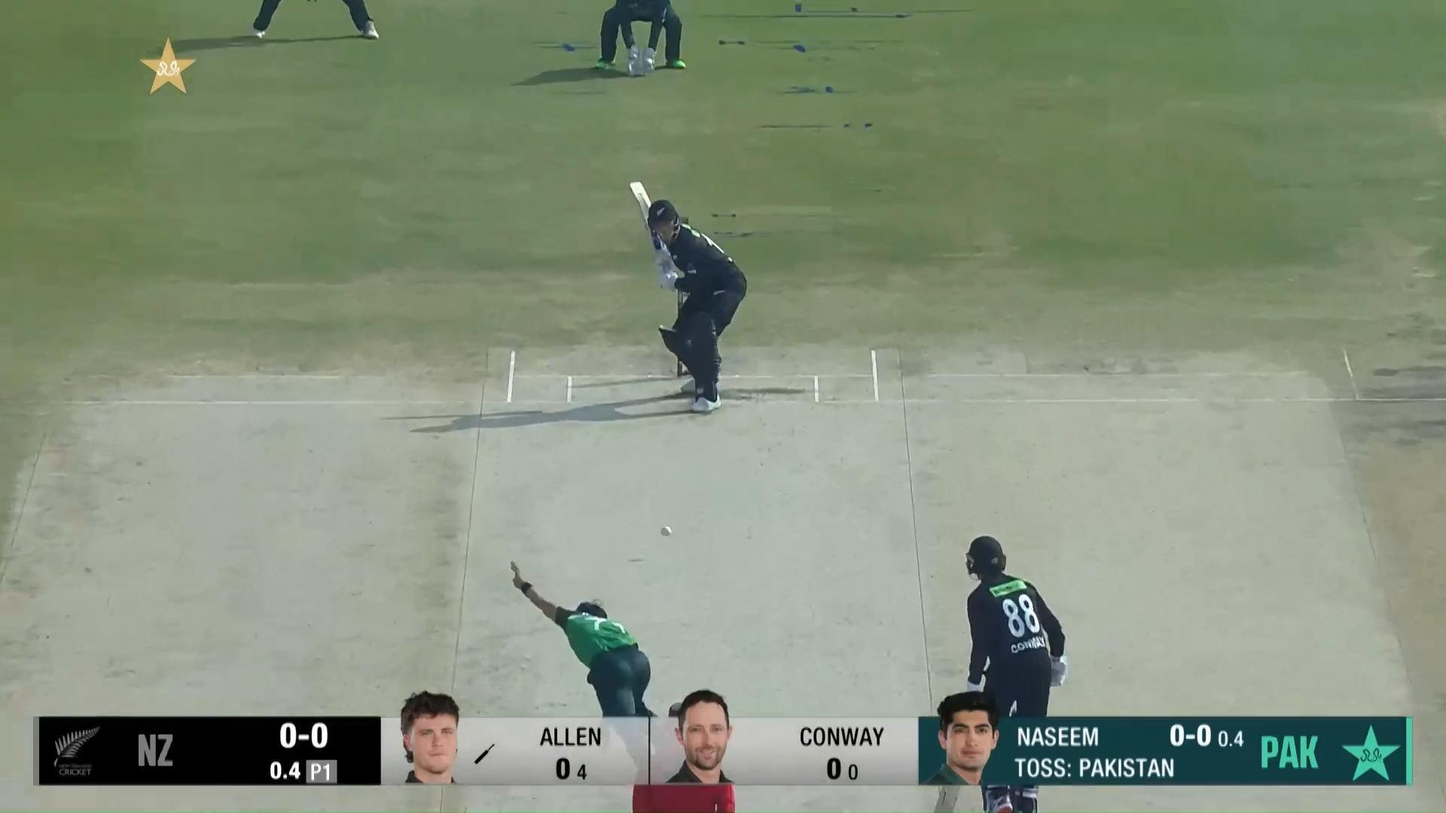BM 1: (628, 179, 748, 415)
BO: (510, 561, 658, 717)
